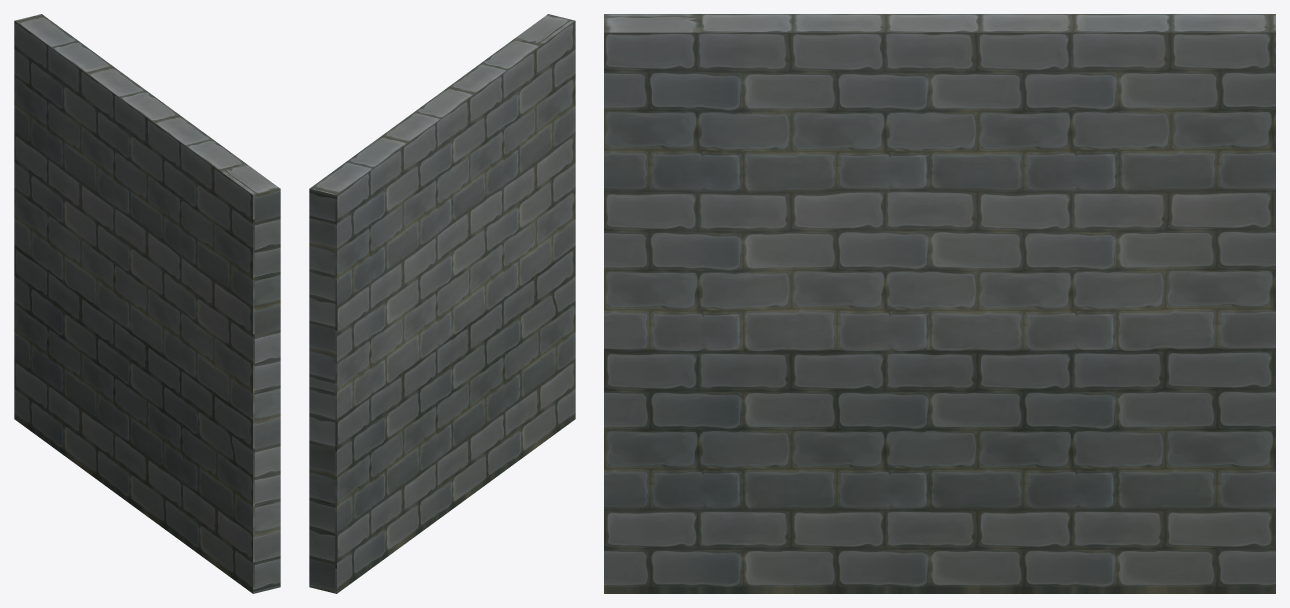
The model's file is wallBreakable.FBX.
3 views of the same model, side by side, from view 1: azimuth 30°, elevation 25°; view 2: azimuth 150°, elevation 25°; view 3: azimuth 270°, elevation 25° (orthographic). The views are drawn at different scales.
Visible parts, largest first — view 1: wall_breakable_piece3, wall_breakable_piece5, wall_breakable_piece1, wall_breakable_piece4, wall_breakable_piece2, wall_breakable_piece7, wall_breakable_piece6; view 2: wall_breakable_piece1, wall_breakable_piece4, wall_breakable_piece3, wall_breakable_piece5, wall_breakable_piece2, wall_breakable_piece7, wall_breakable_piece6; view 3: wall_breakable_piece1, wall_breakable_piece3, wall_breakable_piece5, wall_breakable_piece4, wall_breakable_piece7, wall_breakable_piece2, wall_breakable_piece6.
Boxes of the visible parts, box(x1,y1,x2,y2) form: wall_breakable_piece3: box(166, 163, 280, 476); wall_breakable_piece5: box(132, 371, 280, 593); wall_breakable_piece1: box(14, 14, 132, 241); wall_breakable_piece4: box(14, 216, 132, 504); wall_breakable_piece2: box(82, 63, 245, 244); wall_breakable_piece7: box(49, 210, 184, 385); wall_breakable_piece6: box(64, 308, 166, 472); wall_breakable_piece1: box(309, 139, 454, 390); wall_breakable_piece4: box(309, 366, 454, 593); wall_breakable_piece3: box(489, 14, 575, 301); wall_breakable_piece5: box(454, 272, 575, 507); wall_breakable_piece2: box(377, 39, 540, 220); wall_breakable_piece7: box(371, 196, 506, 399); wall_breakable_piece6: box(387, 334, 488, 486); wall_breakable_piece1: box(944, 14, 1275, 308); wall_breakable_piece3: box(604, 14, 847, 427); wall_breakable_piece5: box(604, 350, 943, 593); wall_breakable_piece4: box(944, 308, 1275, 593); wall_breakable_piece7: box(797, 191, 1177, 389); wall_breakable_piece2: box(701, 14, 1085, 190); wall_breakable_piece6: box(847, 350, 1134, 548).
Size of the model in its own units: 13.23 by 184 by 200.
Materials: 1 (1 with a texture image).
